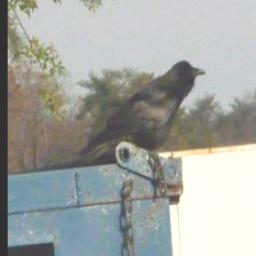Crow: (79, 58, 207, 162)
